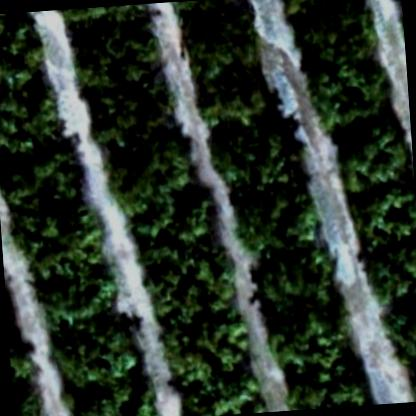Canopy-Citrus: (64, 2, 168, 96), (2, 150, 98, 250), (138, 244, 242, 322), (24, 242, 122, 324), (80, 72, 182, 150), (99, 136, 196, 218), (47, 310, 142, 390), (206, 107, 302, 186), (226, 178, 324, 253), (244, 242, 339, 316), (162, 314, 254, 388), (0, 59, 70, 156), (306, 57, 398, 130), (289, 0, 383, 68), (188, 38, 274, 110), (266, 310, 356, 378), (336, 119, 414, 194), (126, 196, 220, 255), (352, 181, 415, 254), (172, 0, 261, 49), (284, 368, 374, 410), (361, 242, 415, 308), (178, 376, 268, 415), (62, 380, 160, 415), (0, 11, 47, 71), (378, 296, 415, 369), (10, 356, 51, 415), (409, 361, 415, 402)
